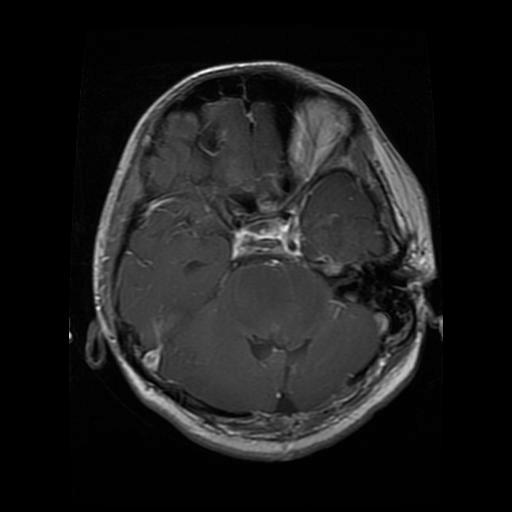Tumour-Glioma: (155, 243, 232, 309)
